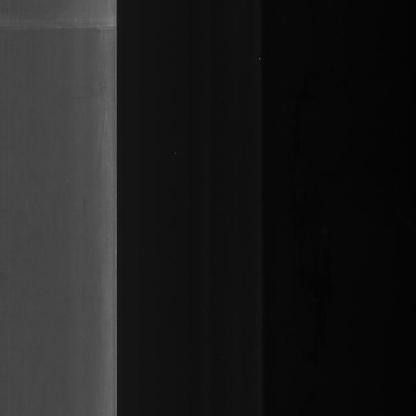welding_line: (0, 15, 119, 40)
